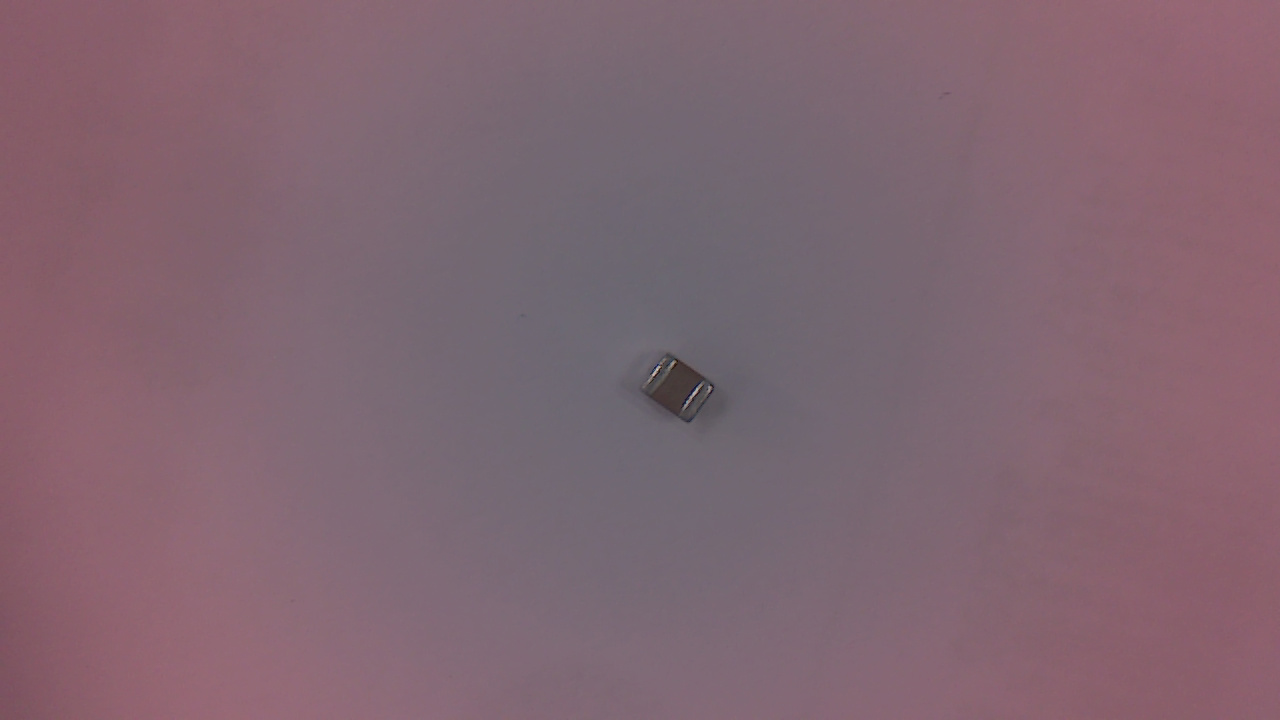Condensator: (647, 357, 721, 434)
